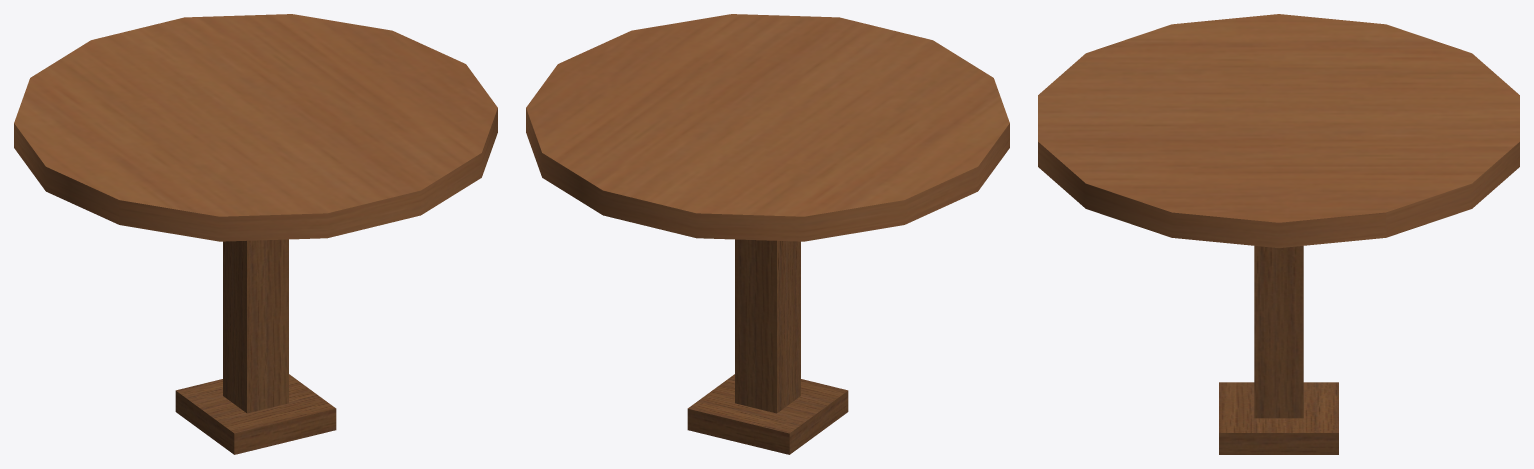
File: Table_2A.fbx
The picture shows the model from 3 angles, left to right: view 1: azimuth 30°, elevation 25°; view 2: azimuth 150°, elevation 25°; view 3: azimuth 270°, elevation 25°; orthographic projection.
Parts seen in each view (by area): view 1: polySurface1513; view 2: polySurface1513; view 3: polySurface1513.
Boxes of the visible parts, x1,y1,x2,y2 form: polySurface1513: (14, 14, 497, 454); polySurface1513: (526, 14, 1009, 454); polySurface1513: (1038, 14, 1519, 454).
Size of the model in its own units: 1.5 by 1.04 by 1.46.
